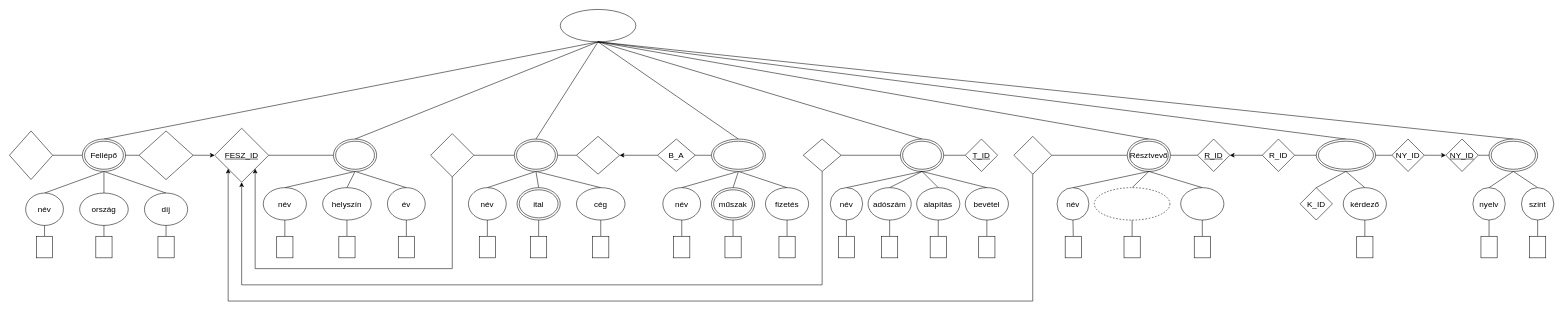
The diagram is 1563 pixels wide and 315 high, and some of its shapes have lost their labels. The box of each missing label's shape, as (x1, y1, x2, y2) in pixels:
Alkalmazott: (711, 139, 765, 171)
B_ID: (576, 136, 620, 174)
Bár: (514, 139, 558, 171)
diákigazolvány (O): (1094, 187, 1170, 220)
FEL_FESZ: (139, 130, 193, 180)
FEL_ID: (9, 130, 53, 180)
FESZ_B: (430, 133, 474, 177)
FESZ_R: (1013, 136, 1052, 174)
FESZ_T: (803, 139, 841, 171)
Fesztivál: (333, 139, 377, 171)
Fesztivál_ULA7Z2: (560, 9, 636, 42)
Közvélemény: (1316, 139, 1376, 171)
lakcím: (1180, 187, 1224, 220)
Nyelvtudás: (1489, 139, 1538, 171)
Tulajdonos: (900, 139, 944, 171)
